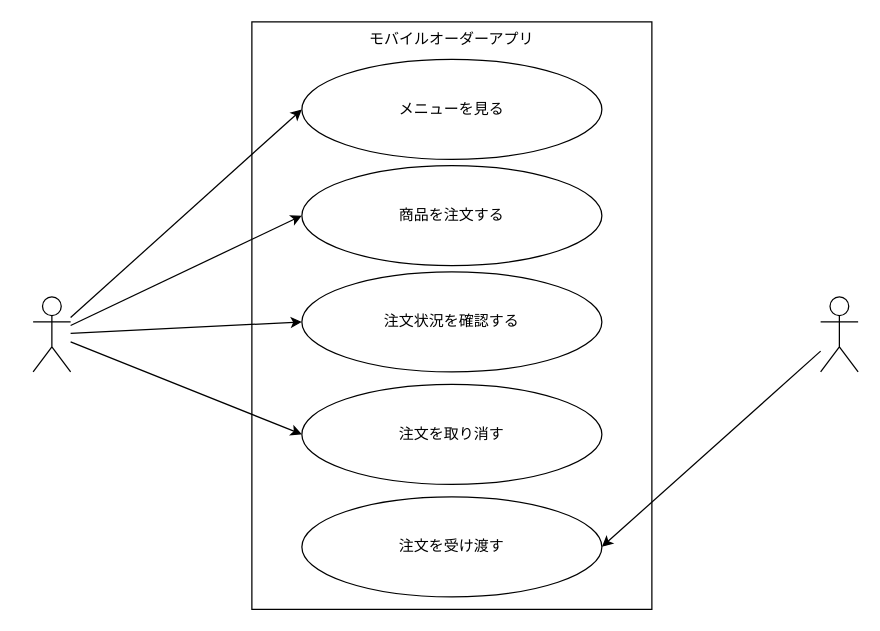
The diagram is 880 pixels wide and 631 high, and some of its shapes have lost their labels. Here are the shapes that lost their labels. From the top down, the centre of each, then its label:
pixel 51 334: お客さん
pixel 838 334: 店員
